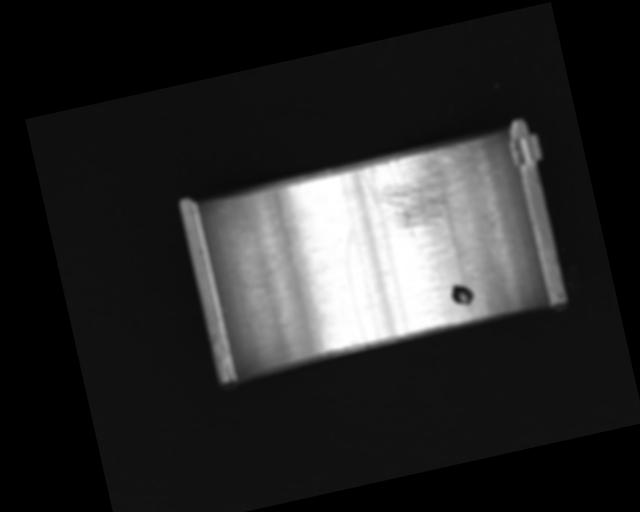blot: (447, 279, 477, 309)
nick: (337, 227, 379, 348)
scratch: (358, 141, 484, 247)
